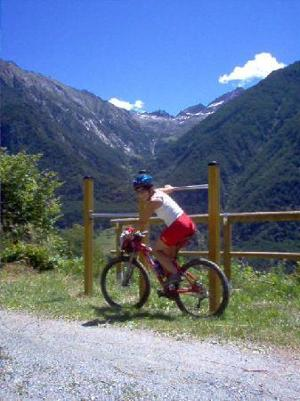person: (134, 172, 197, 302)
